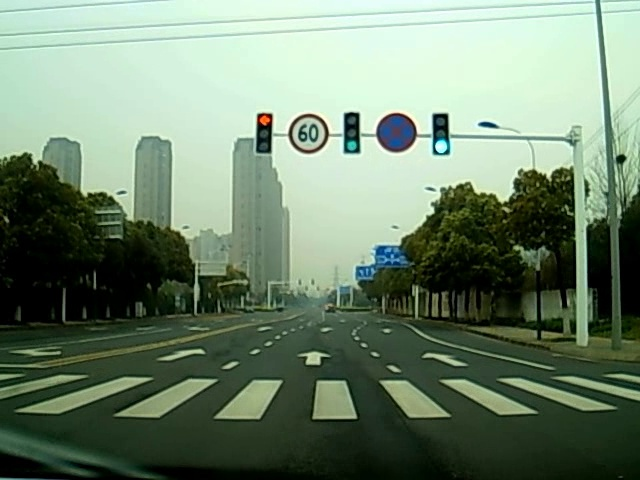Traffic_Light_go: (433, 114, 450, 155), (344, 113, 360, 154)
Traffic_Light_stop: (255, 114, 273, 152)
